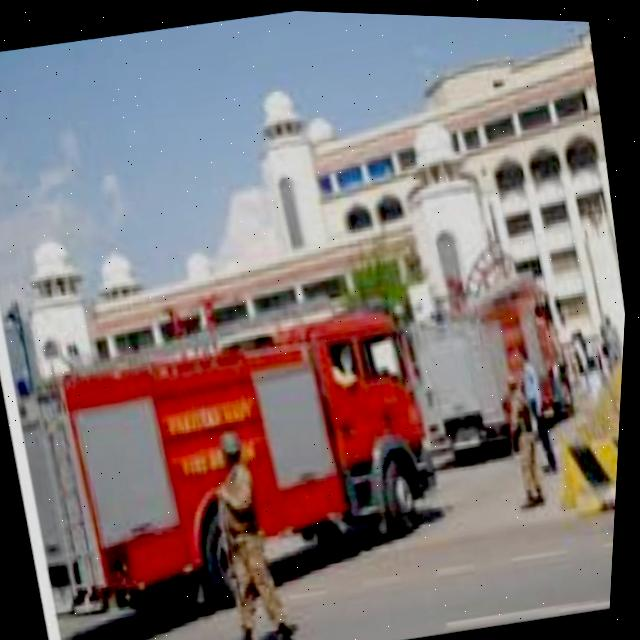emergency: (10, 276, 471, 640), (398, 274, 583, 467)
